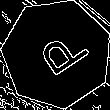P_SW: (25, 25, 88, 83)
